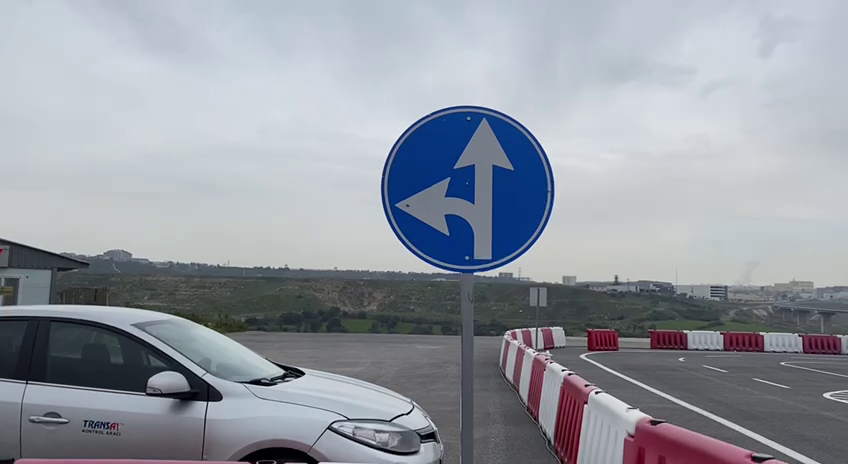forwardAndLeft: (376, 100, 559, 276)
